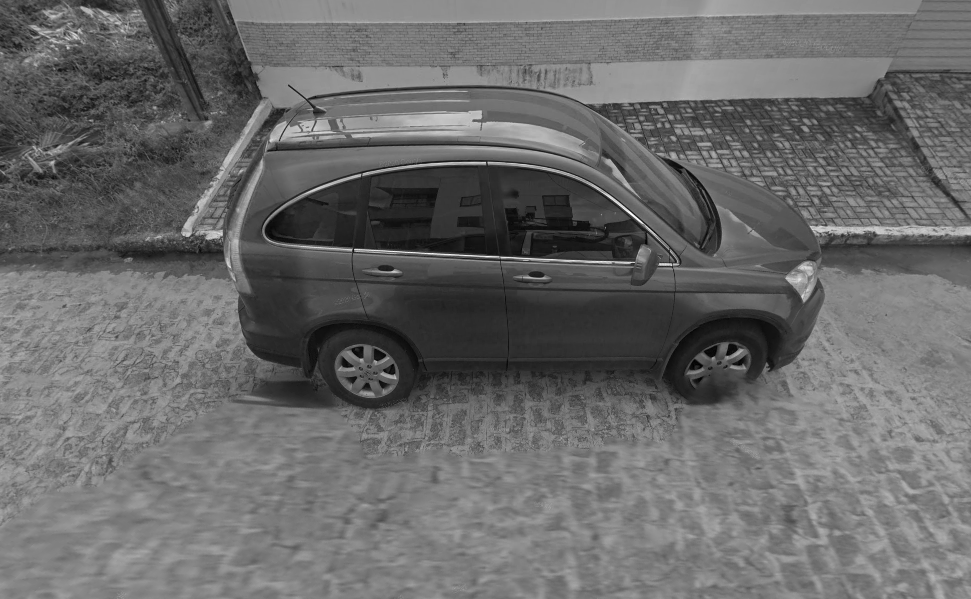car: (218, 80, 828, 416)
